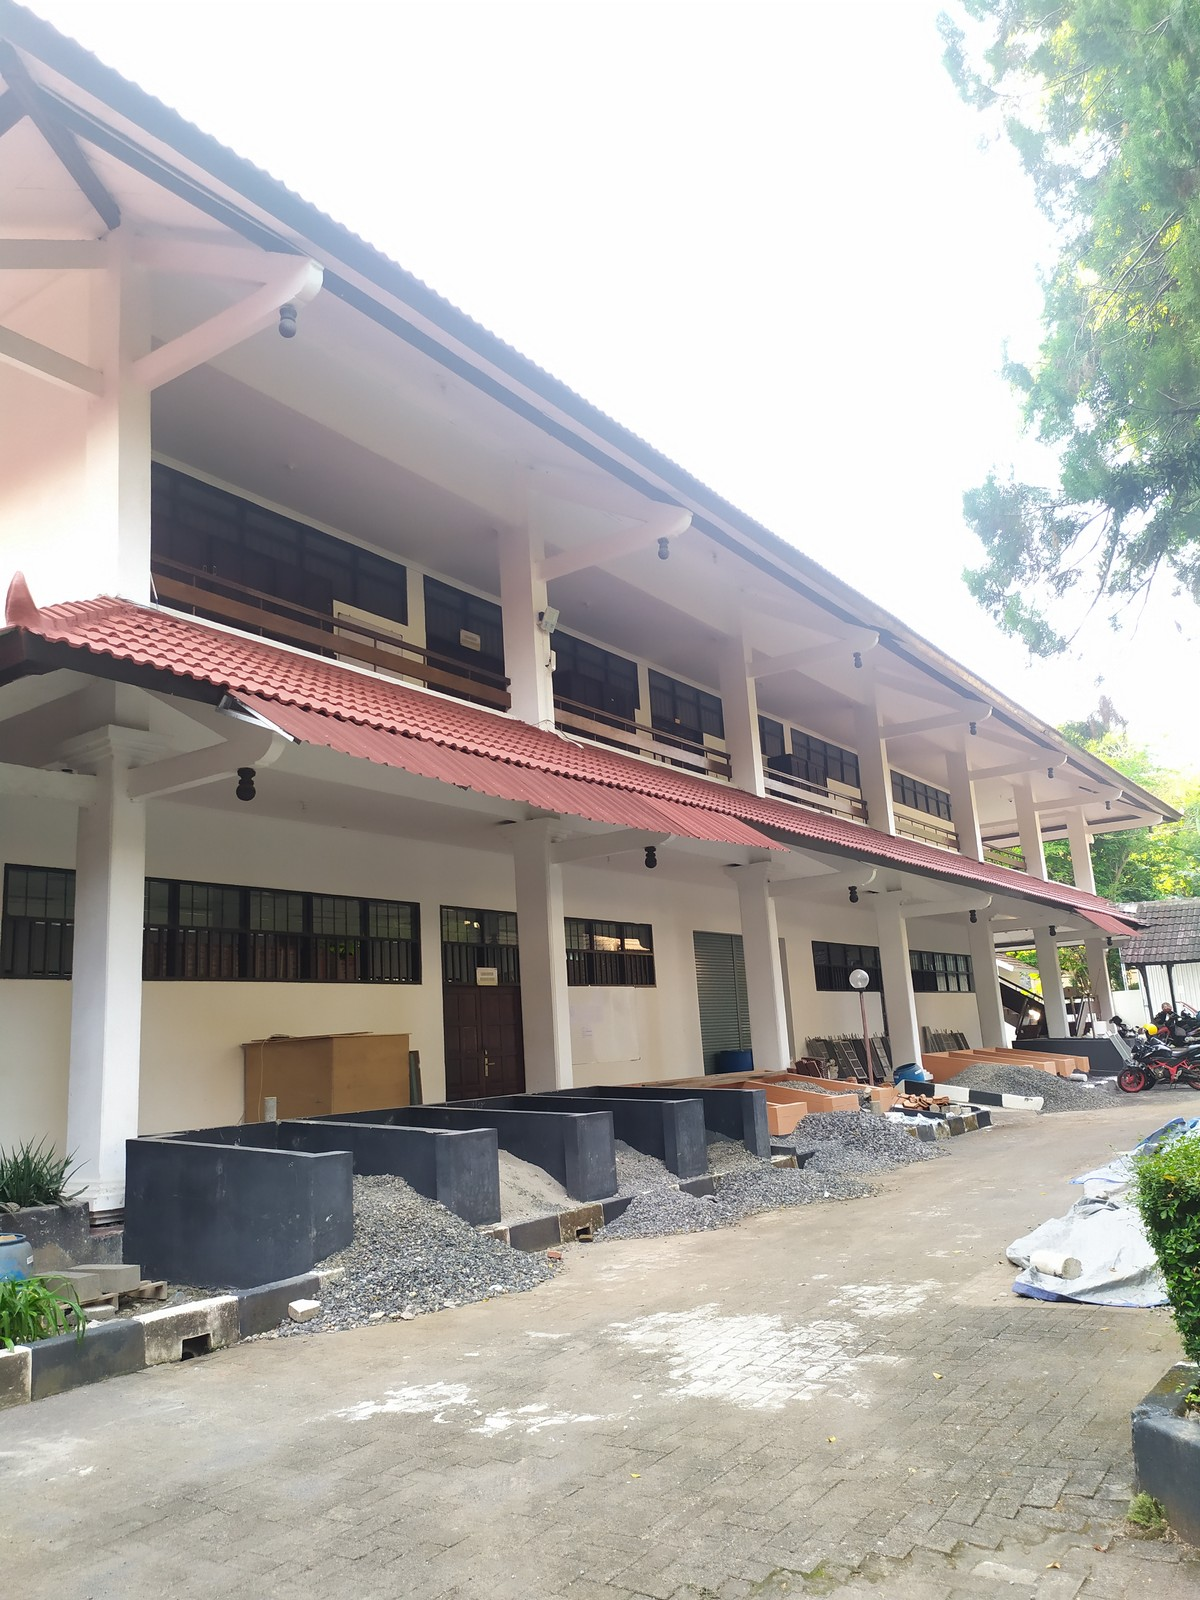concrete beam: (118, 729, 239, 810), (536, 524, 648, 590), (542, 824, 637, 871)
concrete column: (55, 745, 158, 1201), (79, 229, 163, 600), (511, 831, 582, 1091), (499, 508, 565, 741), (736, 871, 803, 1072), (711, 612, 771, 801), (875, 898, 926, 1070), (853, 693, 903, 839)
